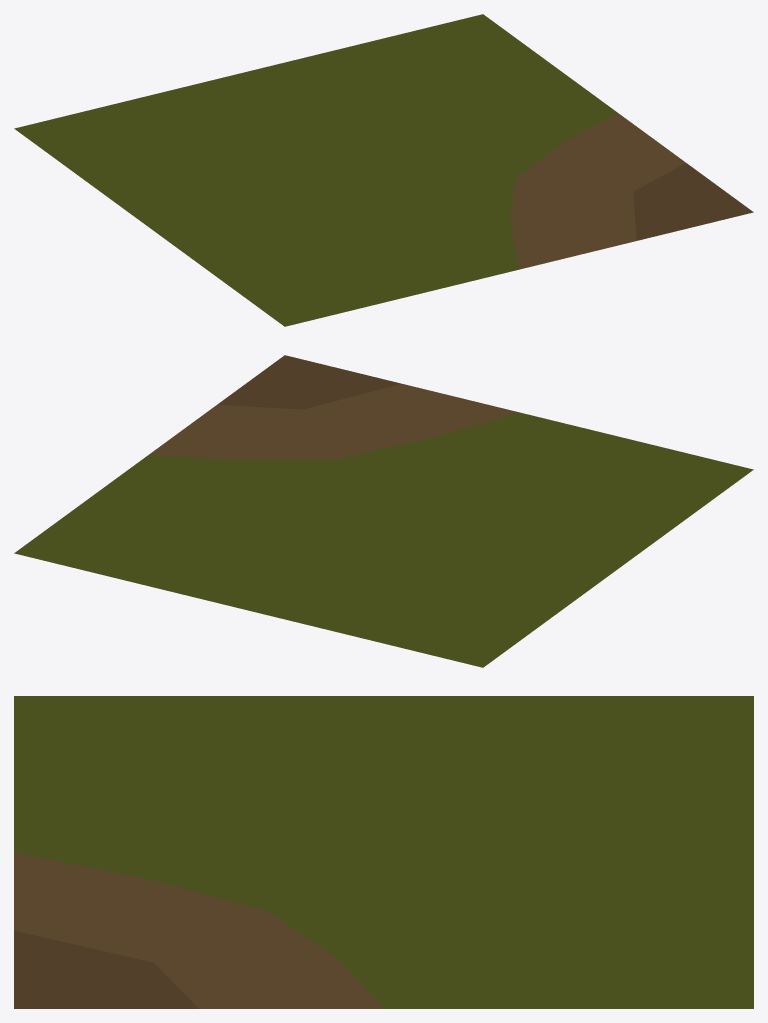
Rendered from SM_dirtEdge_01_cornerIn.glb.
3 views of the same model, one above another, from view 1: azimuth 30°, elevation 25°; view 2: azimuth 150°, elevation 25°; view 3: azimuth 270°, elevation 25° (orthographic). The views are drawn at different scales.
Visible parts, largest first — view 1: SM_dirtEdge_01_cornerIn; view 2: SM_dirtEdge_01_cornerIn; view 3: SM_dirtEdge_01_cornerIn.
Boxes of the visible parts, x1=… form: SM_dirtEdge_01_cornerIn: x1=14, y1=14, x2=753, y2=326; SM_dirtEdge_01_cornerIn: x1=14, y1=355, x2=753, y2=667; SM_dirtEdge_01_cornerIn: x1=14, y1=696, x2=753, y2=1008.
Size of the model in its own units: 4 by 2.45e-16 by 4.
1 material, 1 textured.
